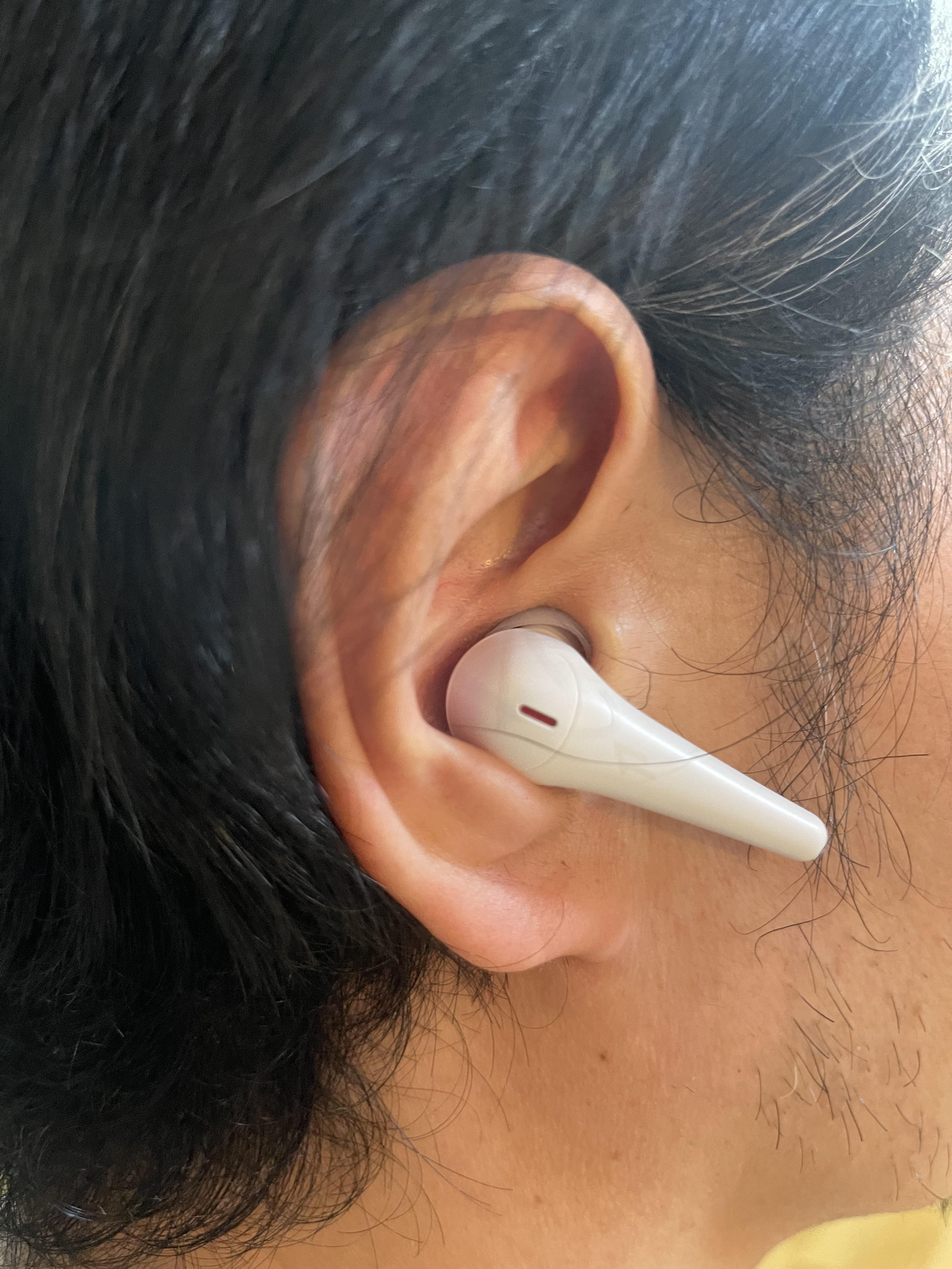earphone: (404, 578, 857, 907)
